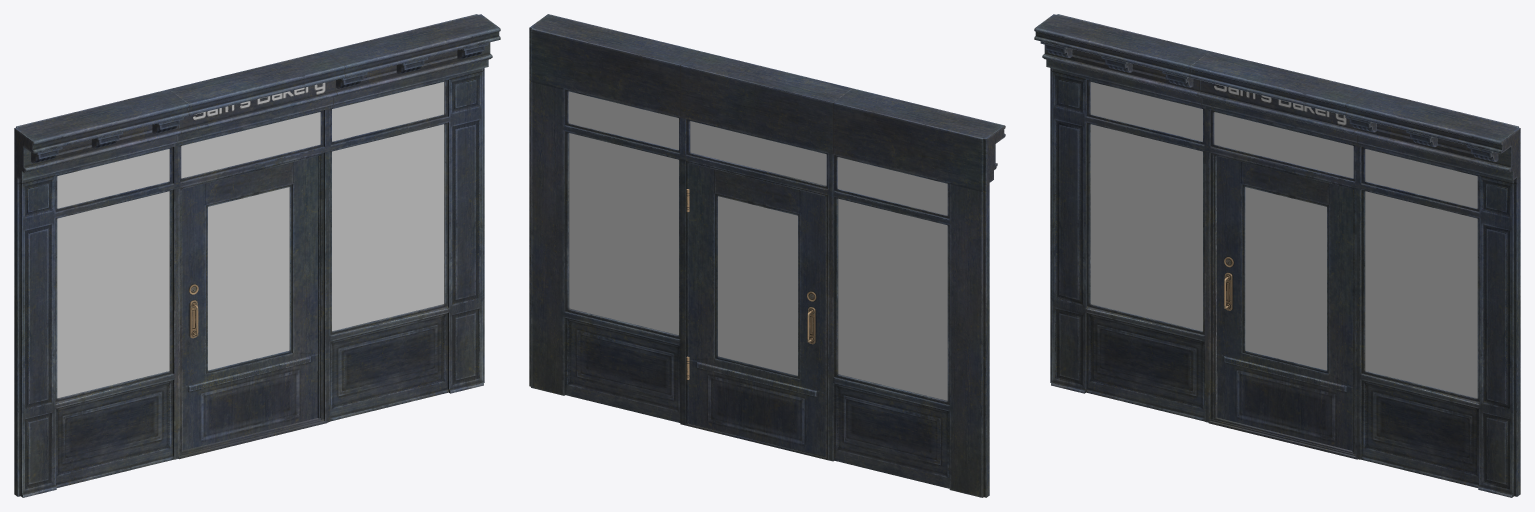
The model's file is Bakery_Showcase.fbx.
3 views of the same model, side by side, from view 1: azimuth 30°, elevation 25°; view 2: azimuth 150°, elevation 25°; view 3: azimuth 330°, elevation 25° (orthographic). The views are drawn at different scales.
Visible parts, largest first — view 1: Bakery_Showcase_LOD0, Bakery_Showcase_Door_LOD0; view 2: Bakery_Showcase_LOD0, Bakery_Showcase_Door_LOD0; view 3: Bakery_Showcase_LOD0, Bakery_Showcase_Door_LOD0.
Boxes of the visible parts, x1=… form: Bakery_Showcase_LOD0: x1=14, y1=14, x2=500, y2=497; Bakery_Showcase_Door_LOD0: x1=182, y1=156, x2=318, y2=450; Bakery_Showcase_LOD0: x1=529, y1=14, x2=1005, y2=497; Bakery_Showcase_Door_LOD0: x1=686, y1=163, x2=825, y2=456; Bakery_Showcase_LOD0: x1=1034, y1=14, x2=1520, y2=497; Bakery_Showcase_Door_LOD0: x1=1216, y1=156, x2=1352, y2=450.
Size of what is drawn, in the model's own units: 400 by 300 by 36.93.
